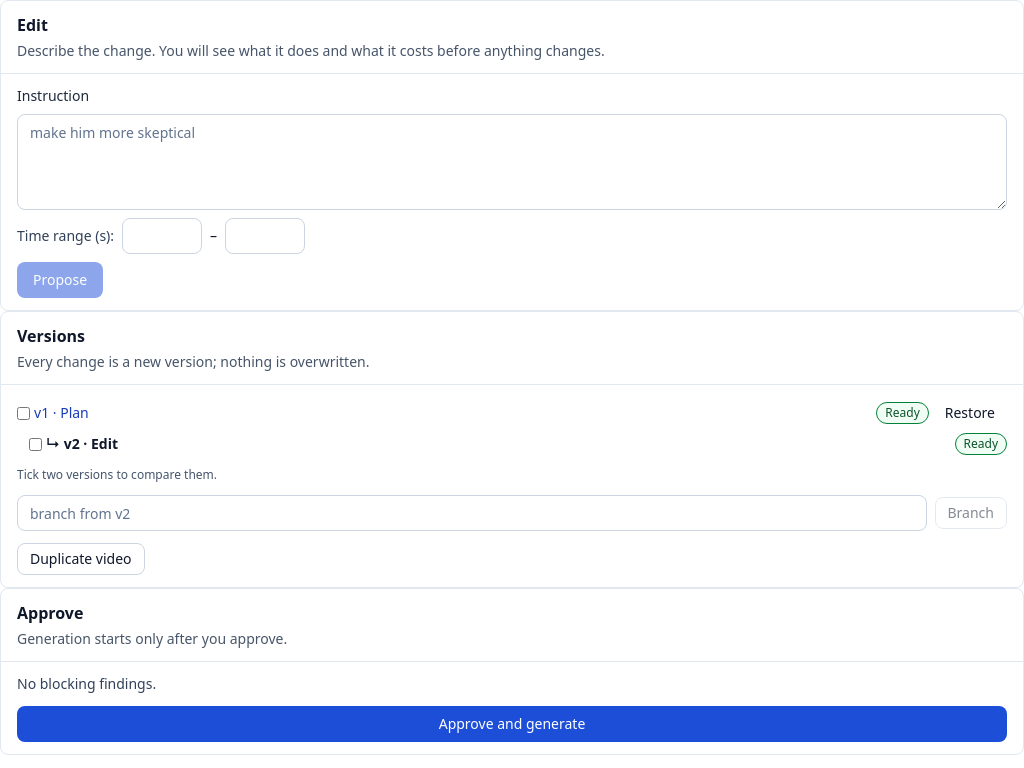
Test: role gating (ROLES) › keeps the controls enabled for an editor
Type "more skeptical" into the text box labelled "Instruction".
click(512, 162); type("more skeptical")  # box [17,114,1007,210]
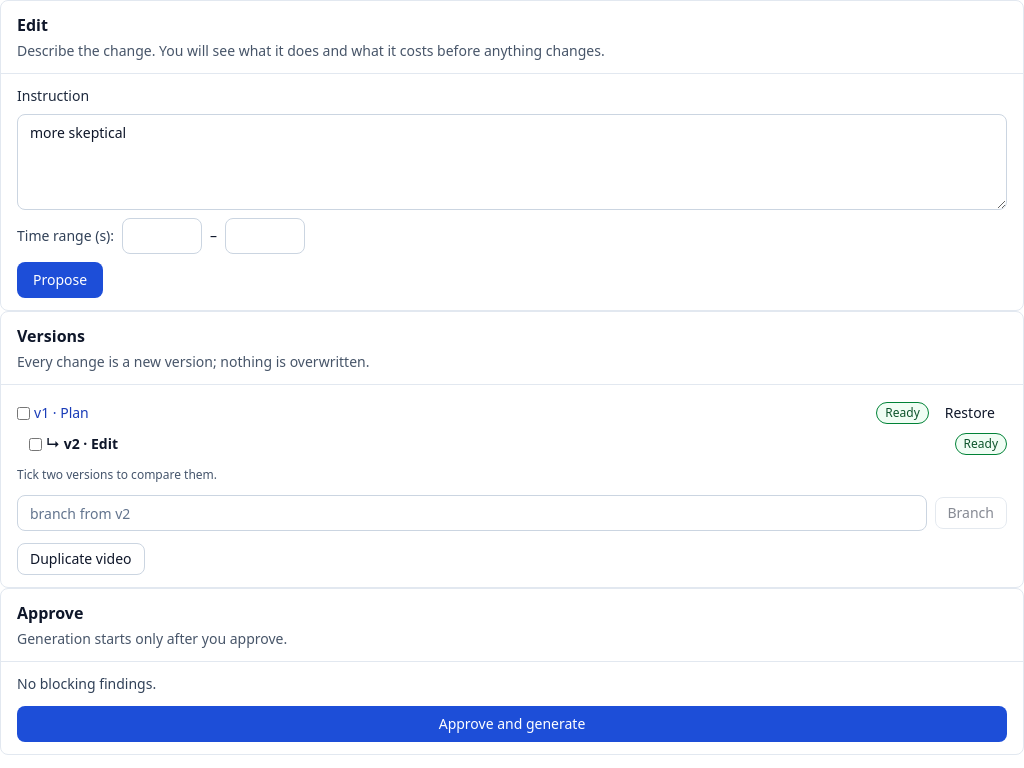
Type "alt" into the field named "Branch name".
click(472, 513); type("alt")  # box [17,495,926,531]
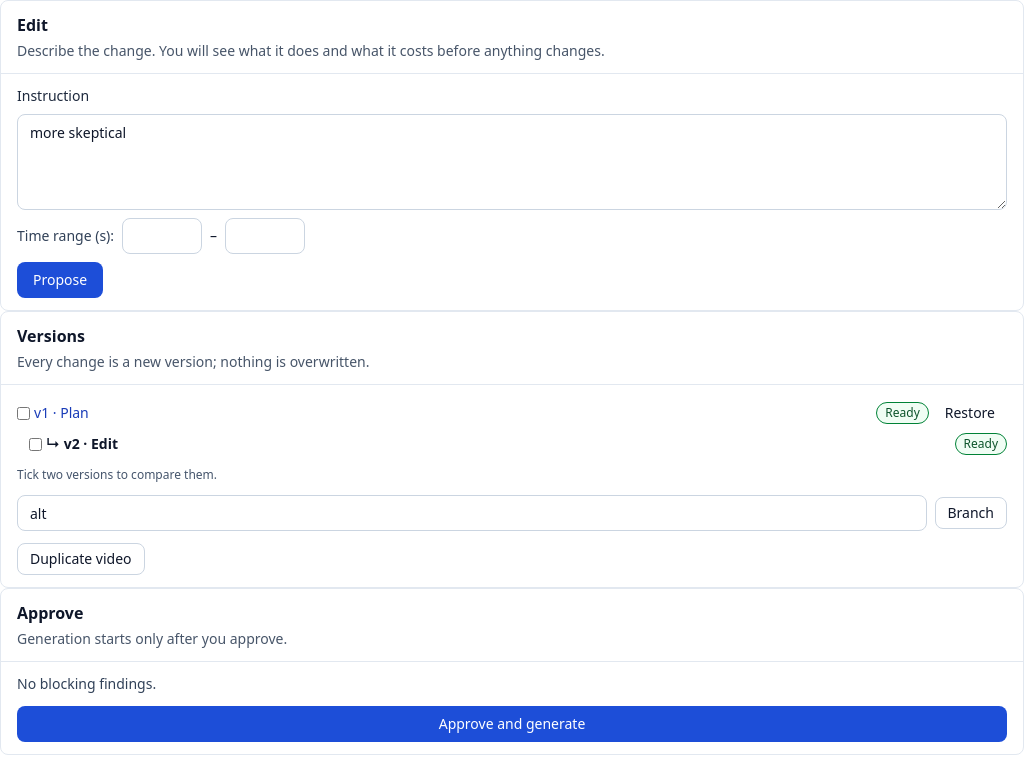
Expected: the button "Restore" is enabled, [933,397,1007,429]
Expected: the button "Propose" is enabled, [17,262,103,298]
Expected: the button "Branch" is enabled, [934,497,1007,529]
